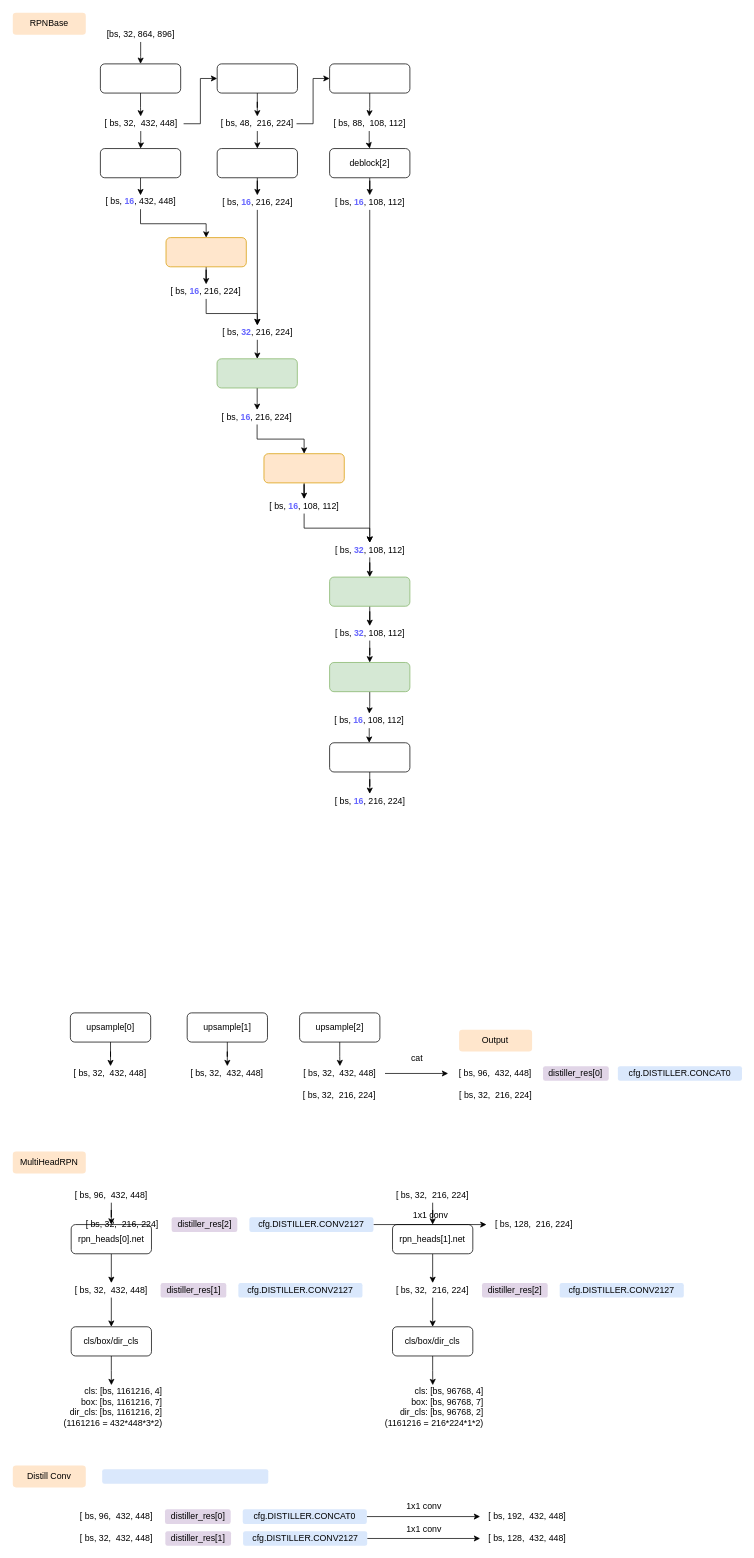
Some shapes in this 754 by 1558 pixel diagram are drawn without their labels. The centre of each missing label's shape, as x and y in pixels:
block[0]: (140,78)
block[1]: (256,78)
block[2]: (369,78)
cfg.DISTILLER.DISTILLER_1x1CONV: (185,1476)
deblock[0]: (140,163)
deblock[1]: (256,163)
fpn_block[1][0]: (256,373)
fpn_block[2][0]: (369,591)
fpn_block[2][2]: (369,677)
pool_blocks[1]: (205,252)
pool_blocks[2]: (303,468)
upsample: (369,757)
